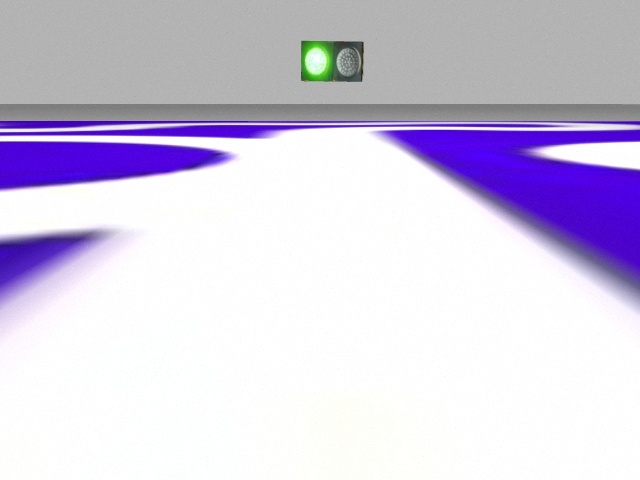green: (301, 39, 334, 81)
